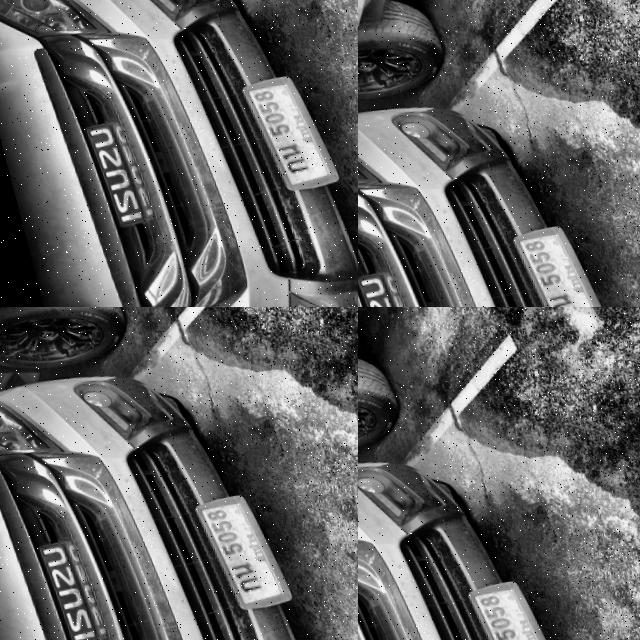license-plate: (457, 561, 564, 640), (51, 609, 76, 638)
